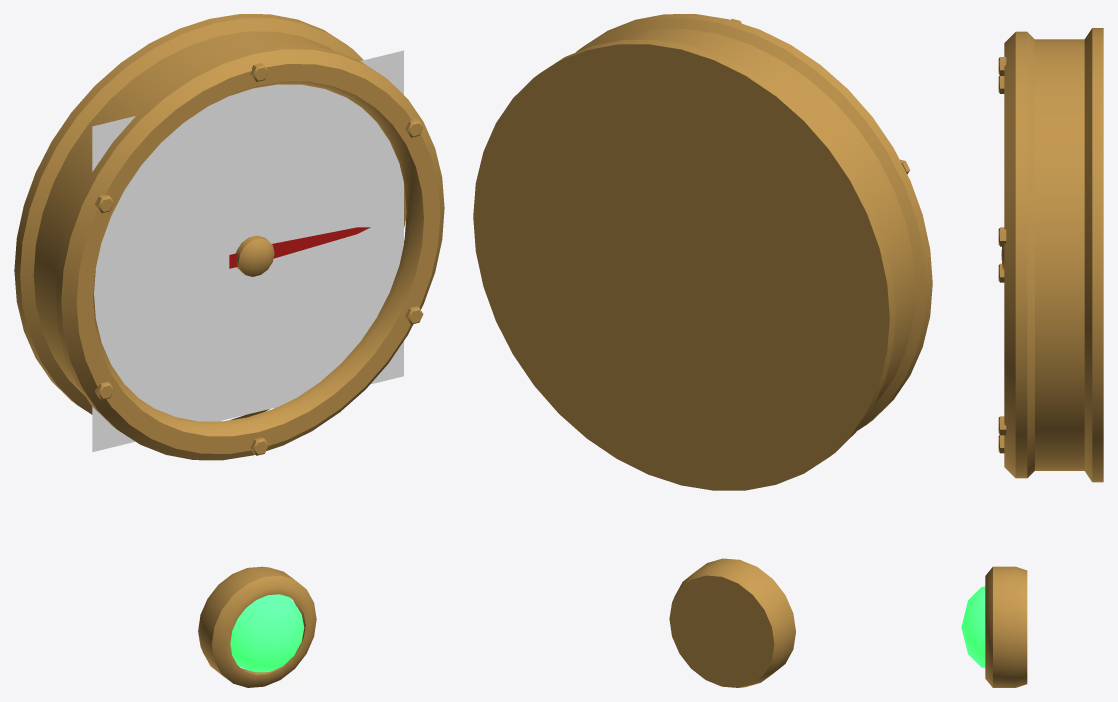
Rendered from gauge.glb.
The picture shows the model from 3 angles, left to right: view 1: azimuth 30°, elevation 25°; view 2: azimuth 150°, elevation 25°; view 3: azimuth 270°, elevation 25°; orthographic projection. The views are drawn at different scales.
Parts seen in each view (by area): view 1: Anzeige_Zifferblatt, Anzeige_Gehaeuse, Leuchte_Fassung, Leuchte, Zeiger_Nabe, Zeiger_Nadel; view 2: Anzeige_Gehaeuse, Leuchte_Fassung; view 3: Anzeige_Gehaeuse, Leuchte_Fassung, Leuchte.
Part boxes in pixels (x1=…): Anzeige_Zifferblatt: x1=92, y1=50, x2=403, y2=452; Anzeige_Gehaeuse: x1=14, y1=14, x2=444, y2=460; Leuchte_Fassung: x1=198, y1=566, x2=316, y2=687; Leuchte: x1=230, y1=594, x2=304, y2=672; Zeiger_Nabe: x1=236, y1=235, x2=274, y2=276; Zeiger_Nadel: x1=229, y1=227, x2=370, y2=268; Anzeige_Gehaeuse: x1=473, y1=14, x2=932, y2=490; Leuchte_Fassung: x1=669, y1=558, x2=795, y2=687; Anzeige_Gehaeuse: x1=998, y1=28, x2=1103, y2=482; Leuchte_Fassung: x1=985, y1=566, x2=1027, y2=687; Leuchte: x1=961, y1=586, x2=985, y2=668.
Size of the model in its own units: 0.238 by 0.366 by 0.0745.
